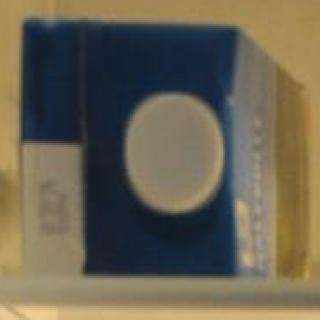milk: (1, 0, 320, 320)
